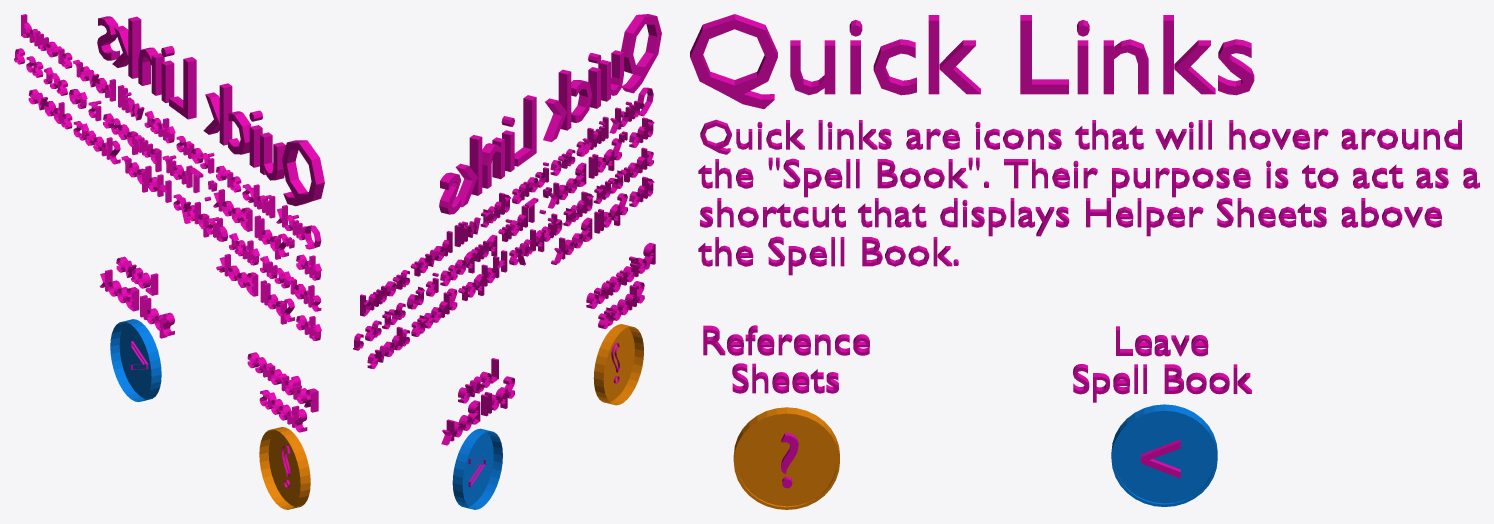
File: SpellBook_tut_quicklinks.fbx
3 renders of one model, left to right at view 1: azimuth 30°, elevation 25°; view 2: azimuth 150°, elevation 25°; view 3: azimuth 270°, elevation 25°, orthographic. The views are drawn at different scales.
Parts seen in each view (by area): view 1: Text.015; view 2: Text.015; view 3: Text.015.
Boxes of the visible parts, bbox=[...] form: Text.015: bbox=[14, 14, 324, 509]; Text.015: bbox=[353, 14, 661, 509]; Text.015: bbox=[690, 14, 1479, 509].
Size of the model in its own units: 3.38 by 82.47 by 121.
